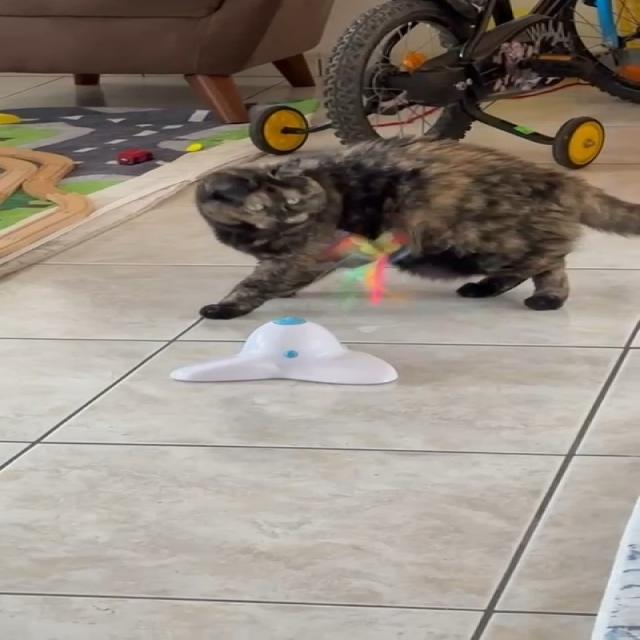authorized: (193, 134, 639, 319)
